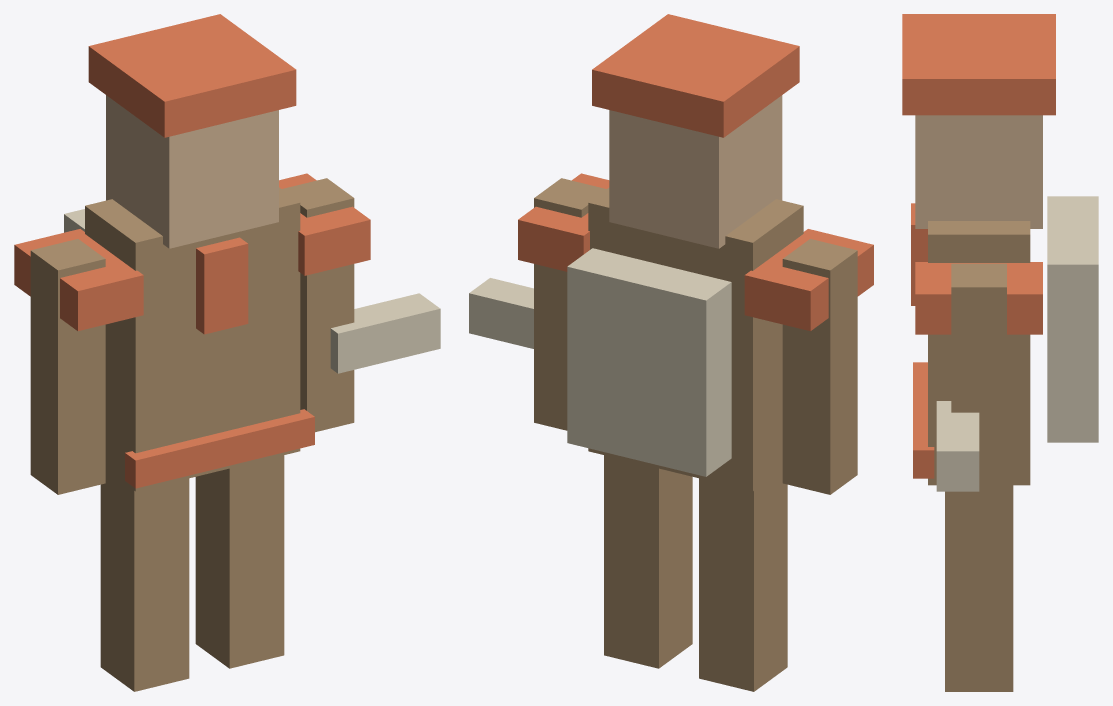
File: 02_korra_gravesong_archivist_from_humming.glb
3 views of the same model, side by side, from view 1: azimuth 30°, elevation 25°; view 2: azimuth 150°, elevation 25°; view 3: azimuth 270°, elevation 25° (orthographic).
Parts seen in each view (by area): view 1: Korra Gravesong, Archivist from Humming; view 2: Korra Gravesong, Archivist from Humming; view 3: Korra Gravesong, Archivist from Humming.
Part boxes in pixels (box(x1,y1,x2,y2)): Korra Gravesong, Archivist from Humming: box(14, 14, 440, 691); Korra Gravesong, Archivist from Humming: box(469, 14, 873, 691); Korra Gravesong, Archivist from Humming: box(902, 14, 1098, 691).
Bounding box in the file's own units: 0.9933 × 1.53 × 0.4458.
